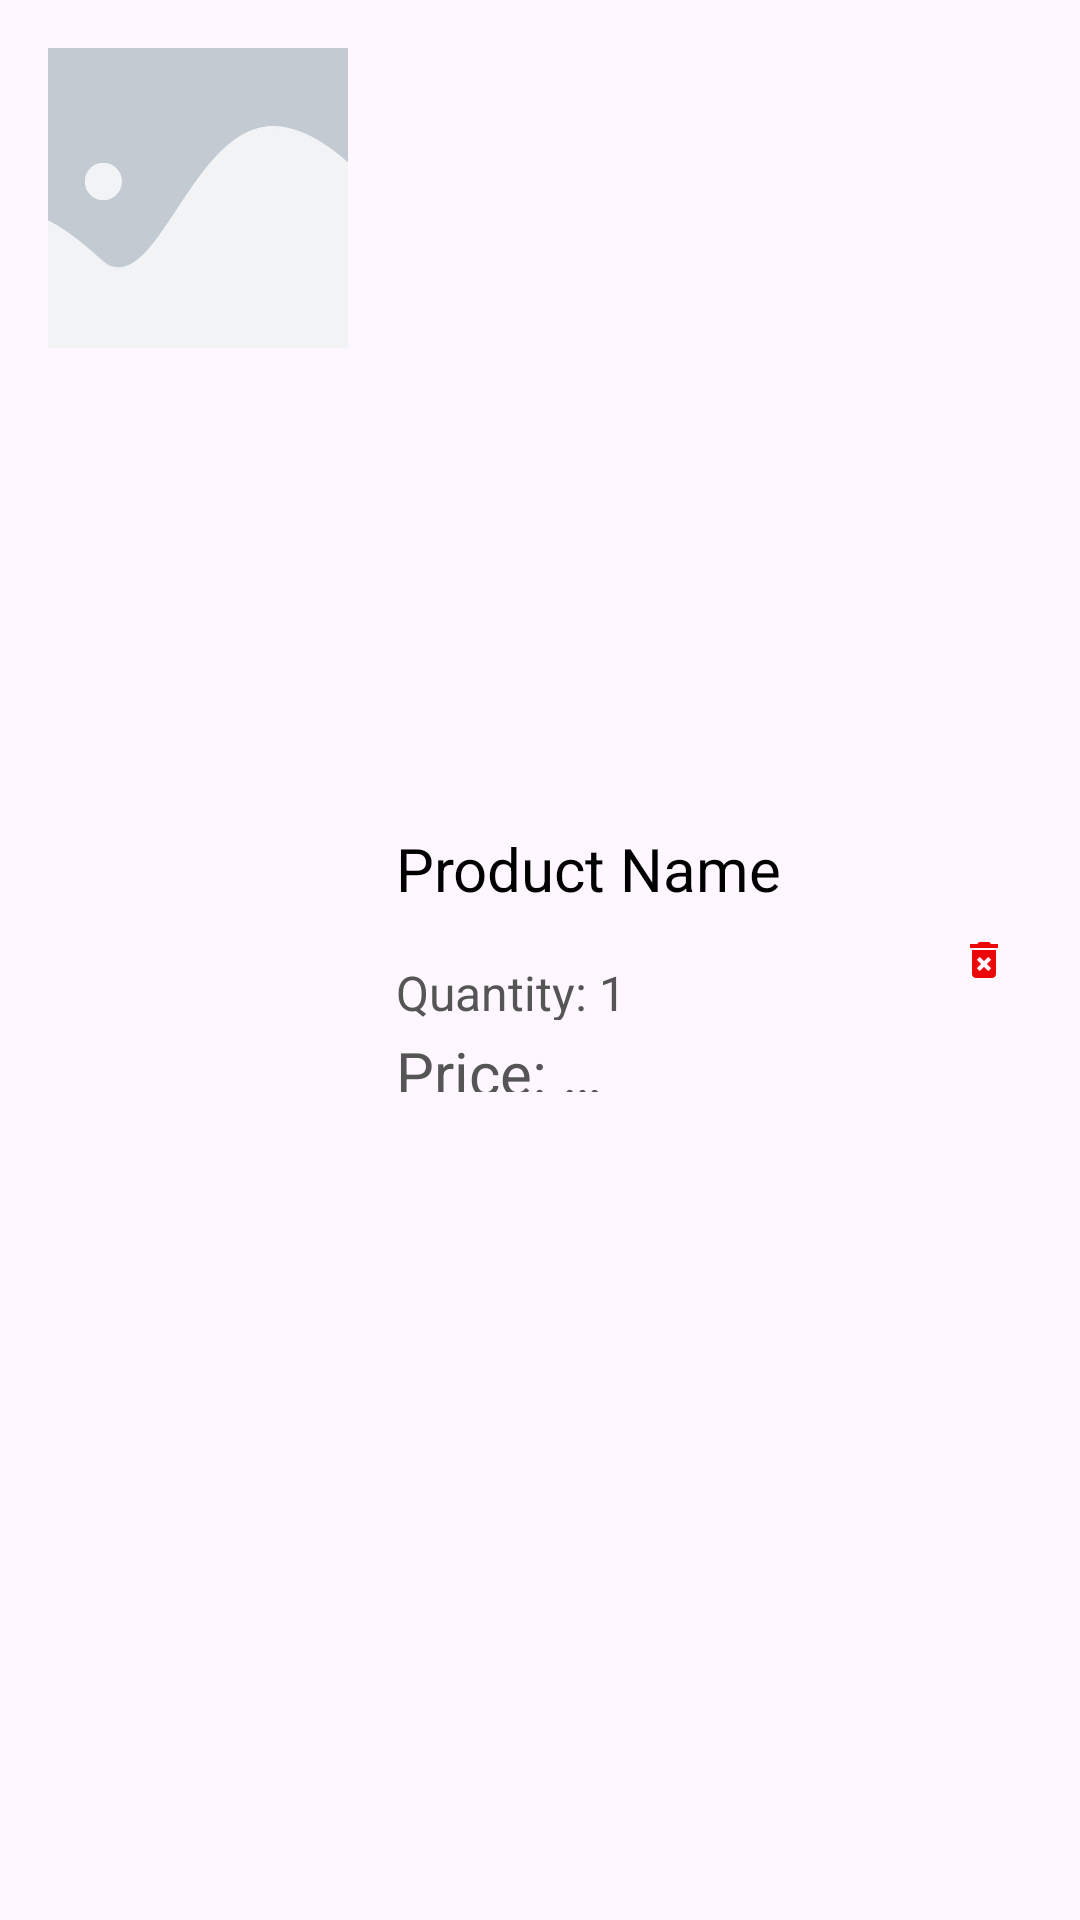

Screen size 1080px x 1920px. Icon name, then its box in pixels as (x1, y1, x2, y2):
Delete Item: (970, 942, 998, 978)
